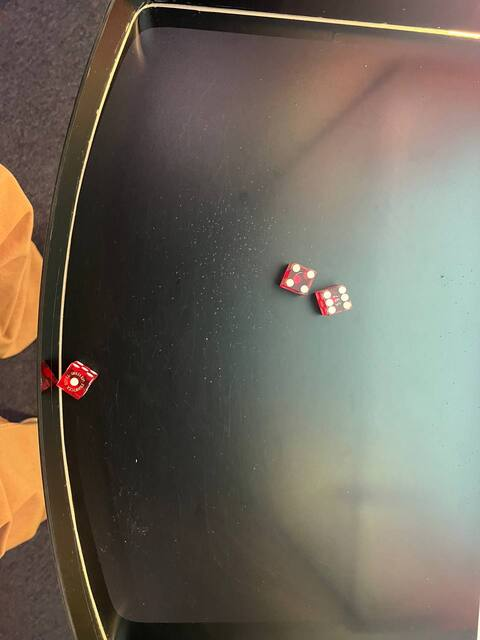four: (277, 259, 320, 298)
one: (56, 364, 93, 401)
six: (314, 281, 355, 320)
